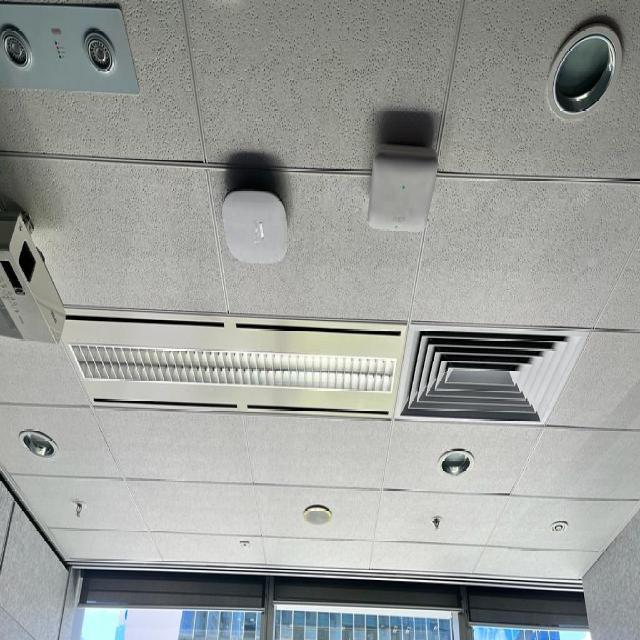Light-Closed: (55, 306, 407, 422), (542, 7, 627, 125), (434, 438, 478, 483), (15, 426, 60, 461), (546, 512, 572, 536), (236, 536, 253, 549)
